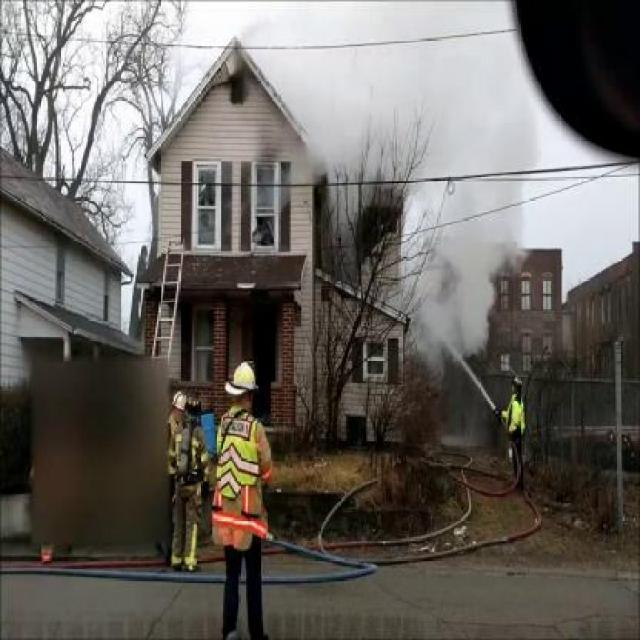smoke: (252, 40, 534, 368), (257, 143, 311, 229)
